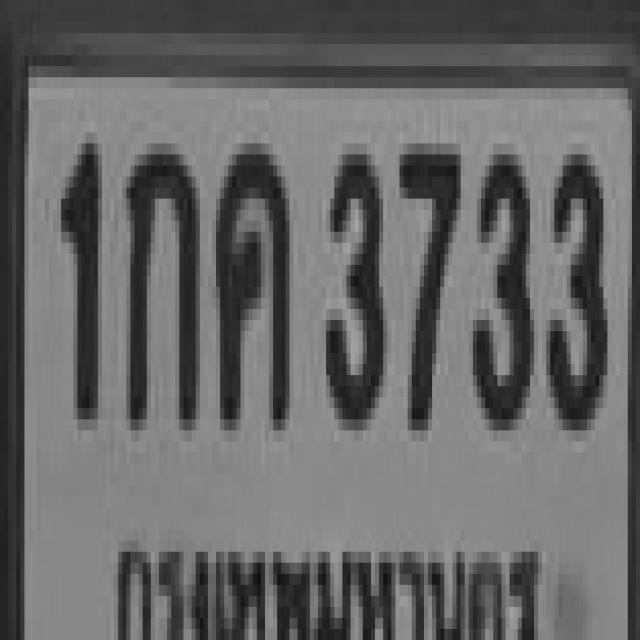1: (57, 132, 98, 408)
10GorGai: (122, 133, 196, 420)
13KhorKhwai: (212, 133, 285, 420)
3: (469, 143, 530, 420), (542, 143, 603, 420), (322, 143, 383, 420)
7: (396, 133, 456, 420)
